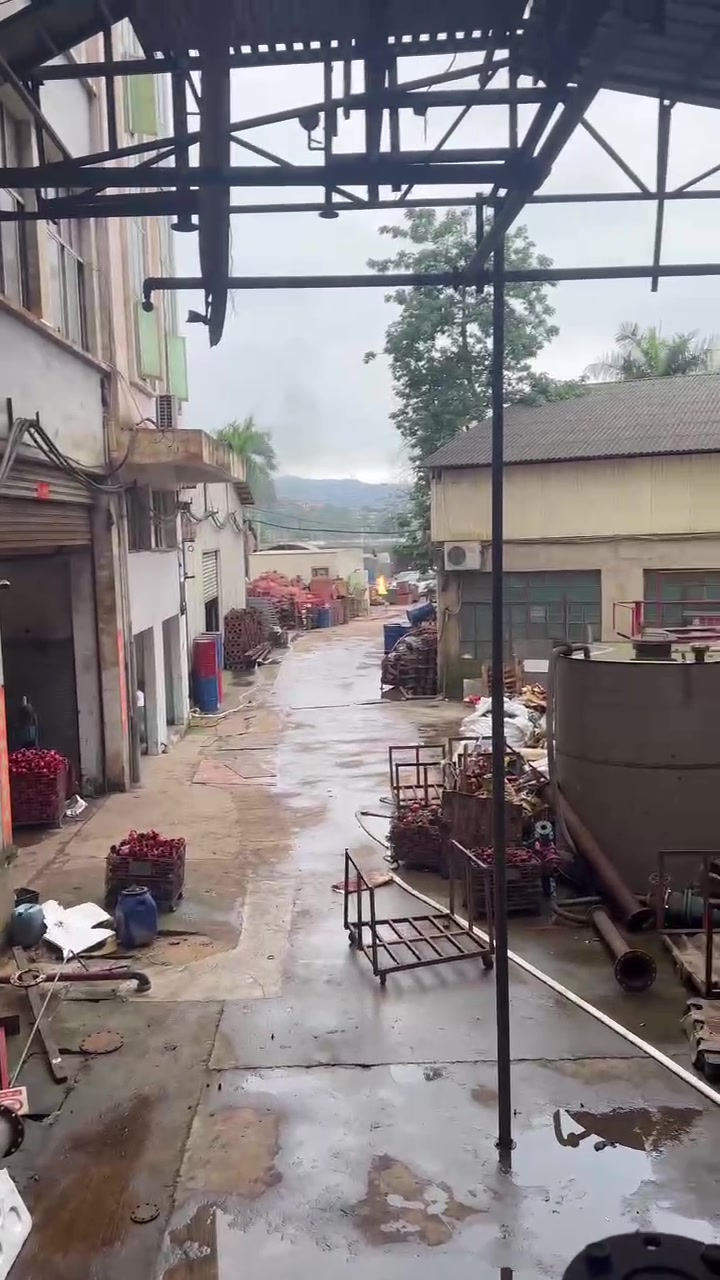fire: (376, 574, 386, 592)
